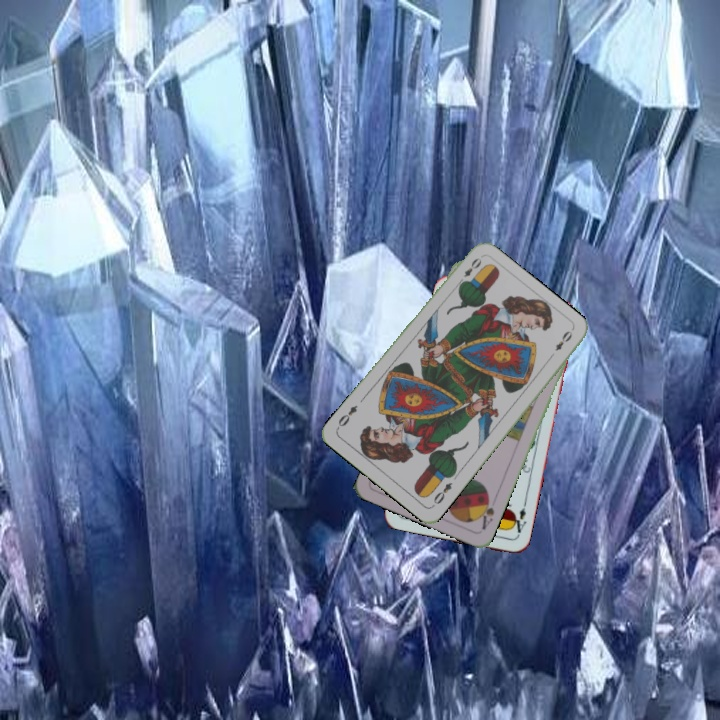EA: (507, 499, 529, 539)
EO: (454, 253, 484, 288), (428, 478, 455, 509)
SA: (474, 491, 497, 533)
